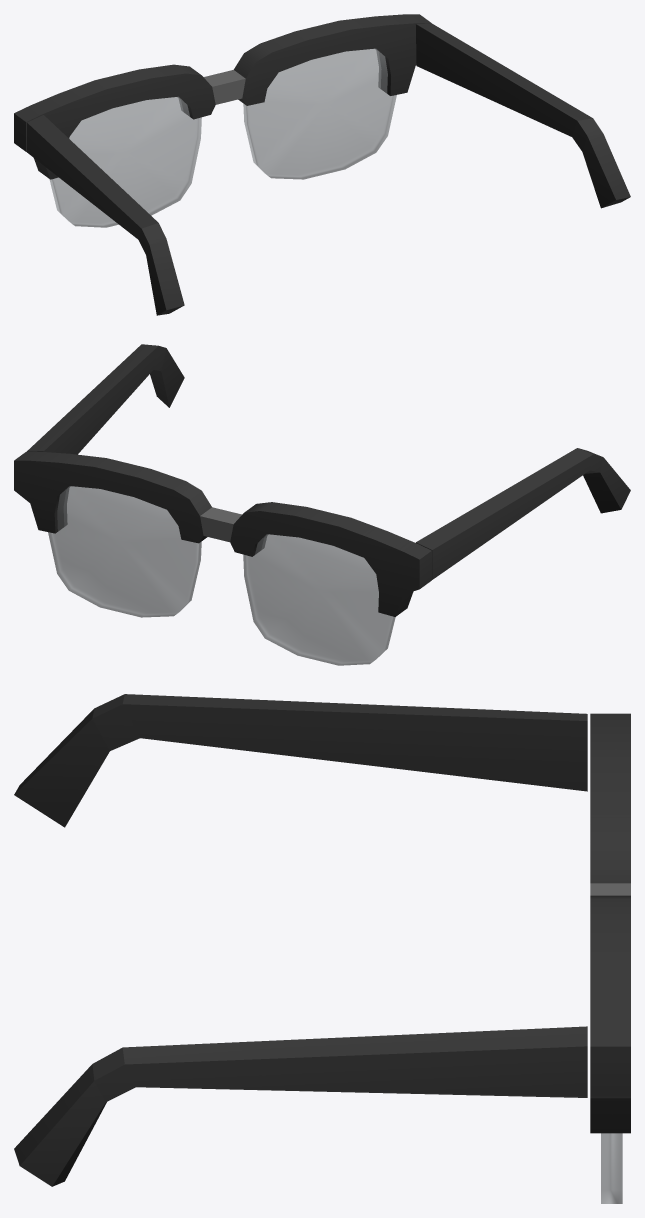
Rendered from Eyewear_2.fbx.
The picture shows the model from 3 angles, top to bottom: view 1: azimuth 30°, elevation 25°; view 2: azimuth 150°, elevation 25°; view 3: azimuth 270°, elevation 25°; orthographic projection. The views are drawn at different scales.
Parts seen in each view (by area): view 1: Eyewear_2; view 2: Eyewear_2; view 3: Eyewear_2.
Boxes of the visible parts, x1=… form: Eyewear_2: x1=14, y1=14, x2=630, y2=315; Eyewear_2: x1=14, y1=344, x2=630, y2=665; Eyewear_2: x1=14, y1=694, x2=630, y2=1203.
Bounding box in the file's own units: 71.62 × 20.86 × 49.01.
